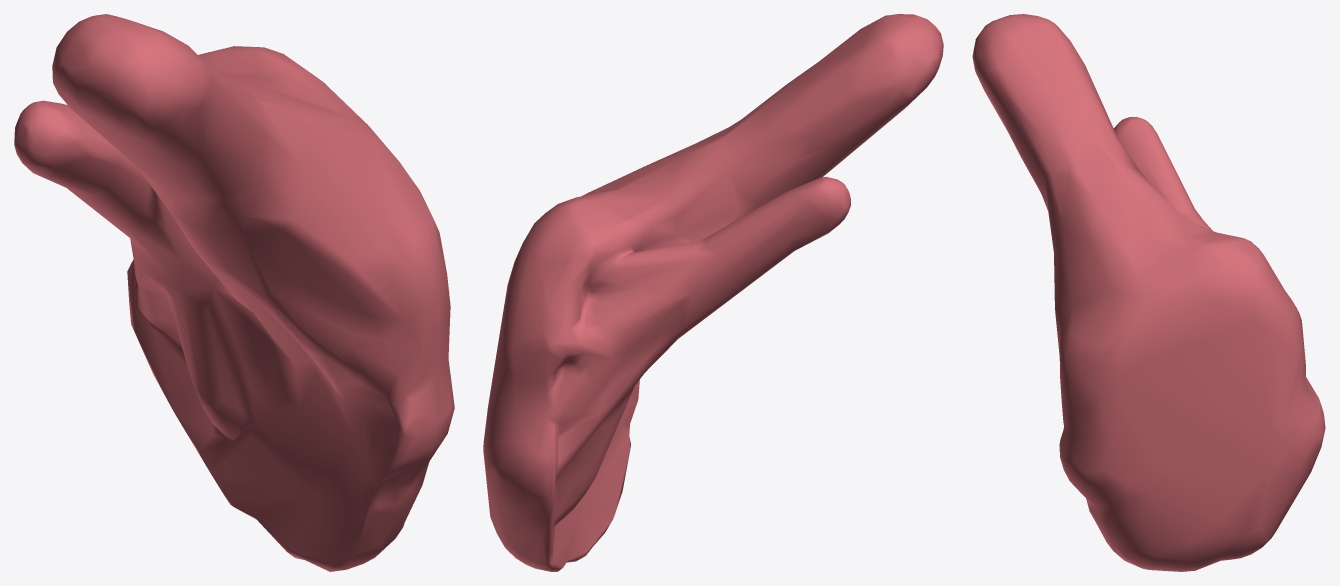
The picture shows the model from 3 angles, left to right: view 1: azimuth 30°, elevation 25°; view 2: azimuth 150°, elevation 25°; view 3: azimuth 270°, elevation 25°; orthographic projection. The views are drawn at different scales.
Visible parts, largest first — view 1: 左心室后乳头肌; view 2: 左心室后乳头肌; view 3: 左心室后乳头肌.
Part boxes in pixels (x1,y1,x2,y2): 左心室后乳头肌: (14,14,454,571); 左心室后乳头肌: (483,14,943,571); 左心室后乳头肌: (972,14,1325,571).
Bounding box in the file's own units: 0.0434 × 0.0644 × 0.0458.
